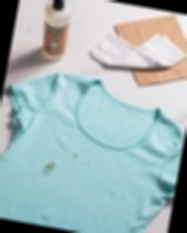oil: (42, 156, 60, 175), (72, 148, 83, 158), (80, 161, 93, 169)
